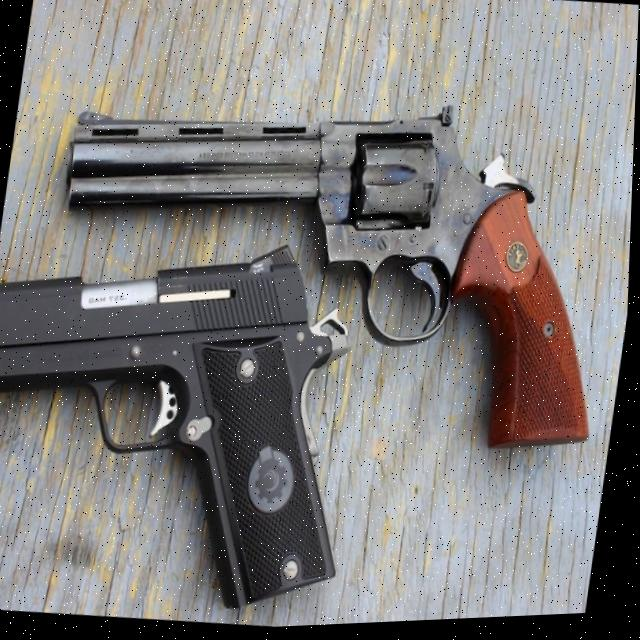pistol: (32, 62, 634, 478), (0, 213, 385, 629)
